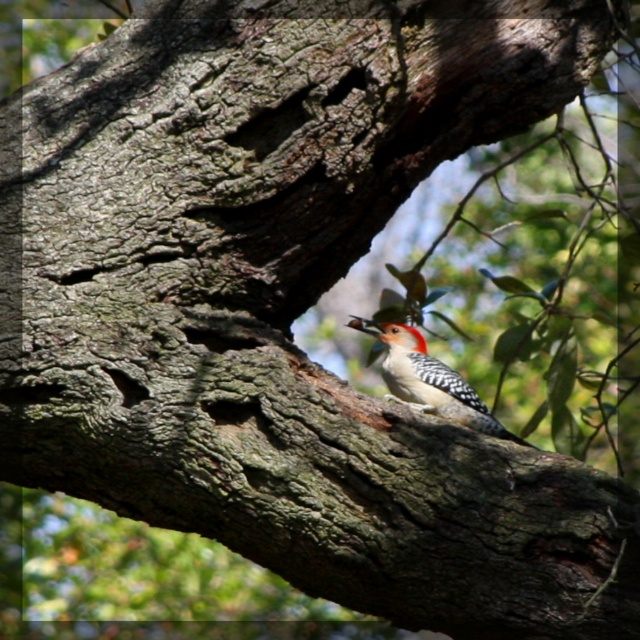Woodpecker: (344, 314, 544, 450)
